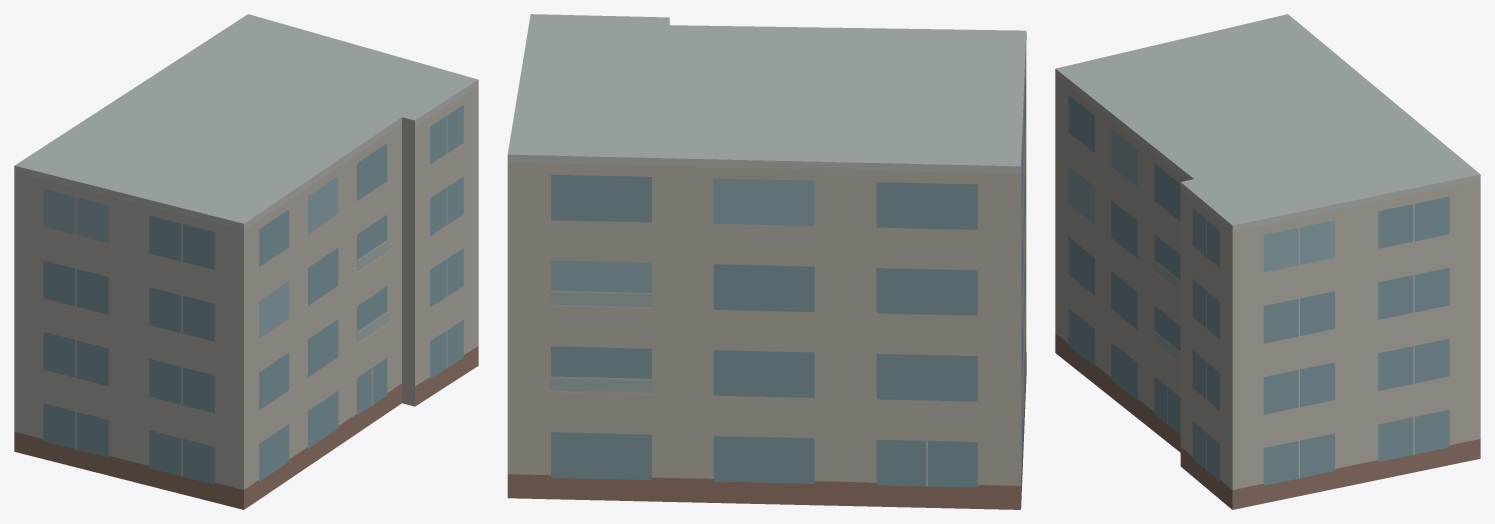
File: survey-upis-32949234.glb
3 renders of one model, left to right at view 1: azimuth 30°, elevation 25°; view 2: azimuth 150°, elevation 25°; view 3: azimuth 270°, elevation 25°, orthographic. The views are drawn at different scales.
Parts seen in each view (by area): view 1: survey-upis-32949234.tmp; view 2: survey-upis-32949234.tmp; view 3: survey-upis-32949234.tmp.
Part boxes in pixels (left/top/right/bottom): survey-upis-32949234.tmp: left=14, top=14, right=478, bottom=509; survey-upis-32949234.tmp: left=507, top=14, right=1026, bottom=509; survey-upis-32949234.tmp: left=1055, top=14, right=1480, bottom=509.
Bounding box in the file's own units: 17.16 × 10.75 × 14.58.
